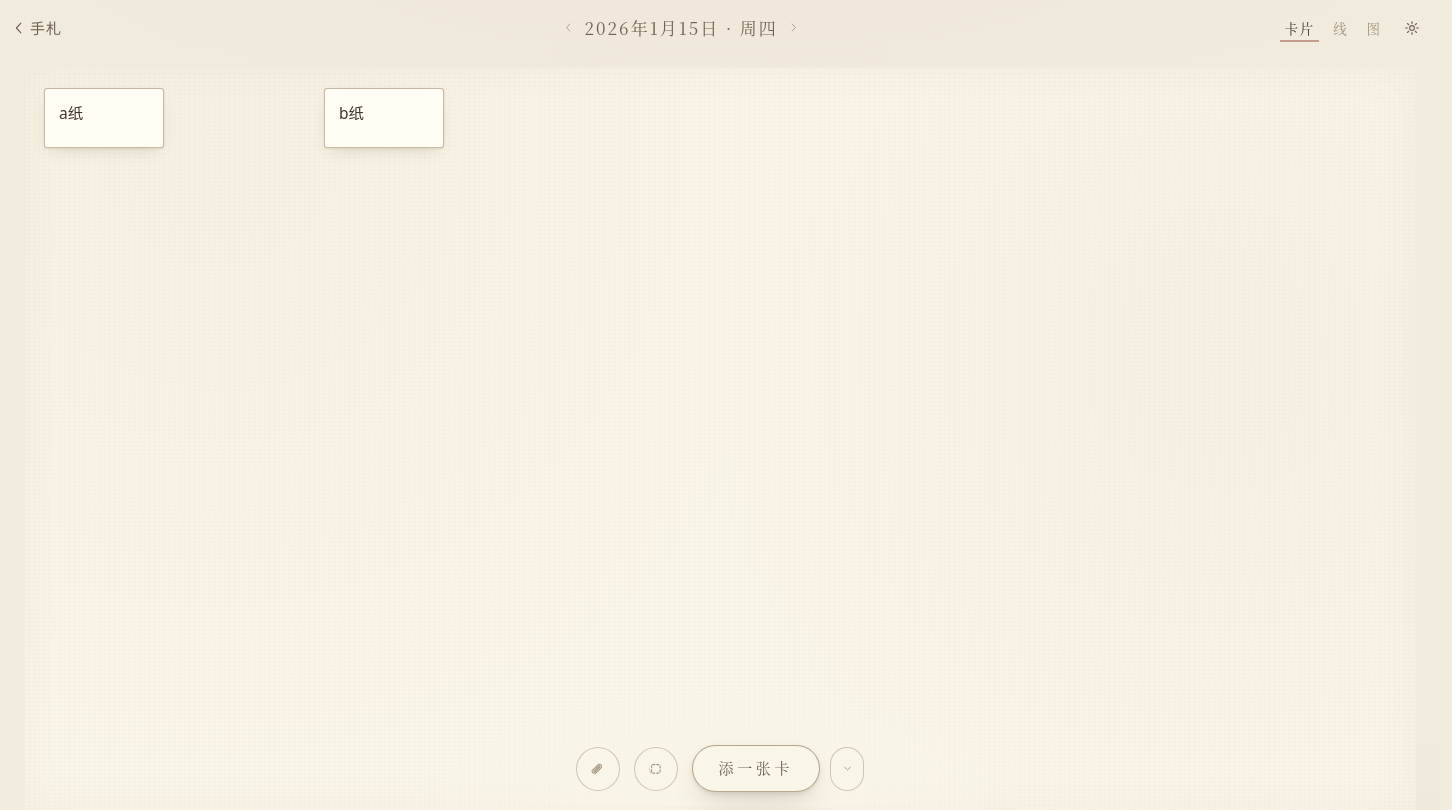
Test: 牵线（D1） › ⋯ 菜单出「牵线」；起牵后纸黄昏：靶纸亮、垫纸家眷与起点各居其位
The width and height of the screenshot is (1452, 810).
Check: the text "a纸" is shown, box [59,102,83,124]
Press the mouse on the element showing "a纸": (104,118) [44,88,164,148]
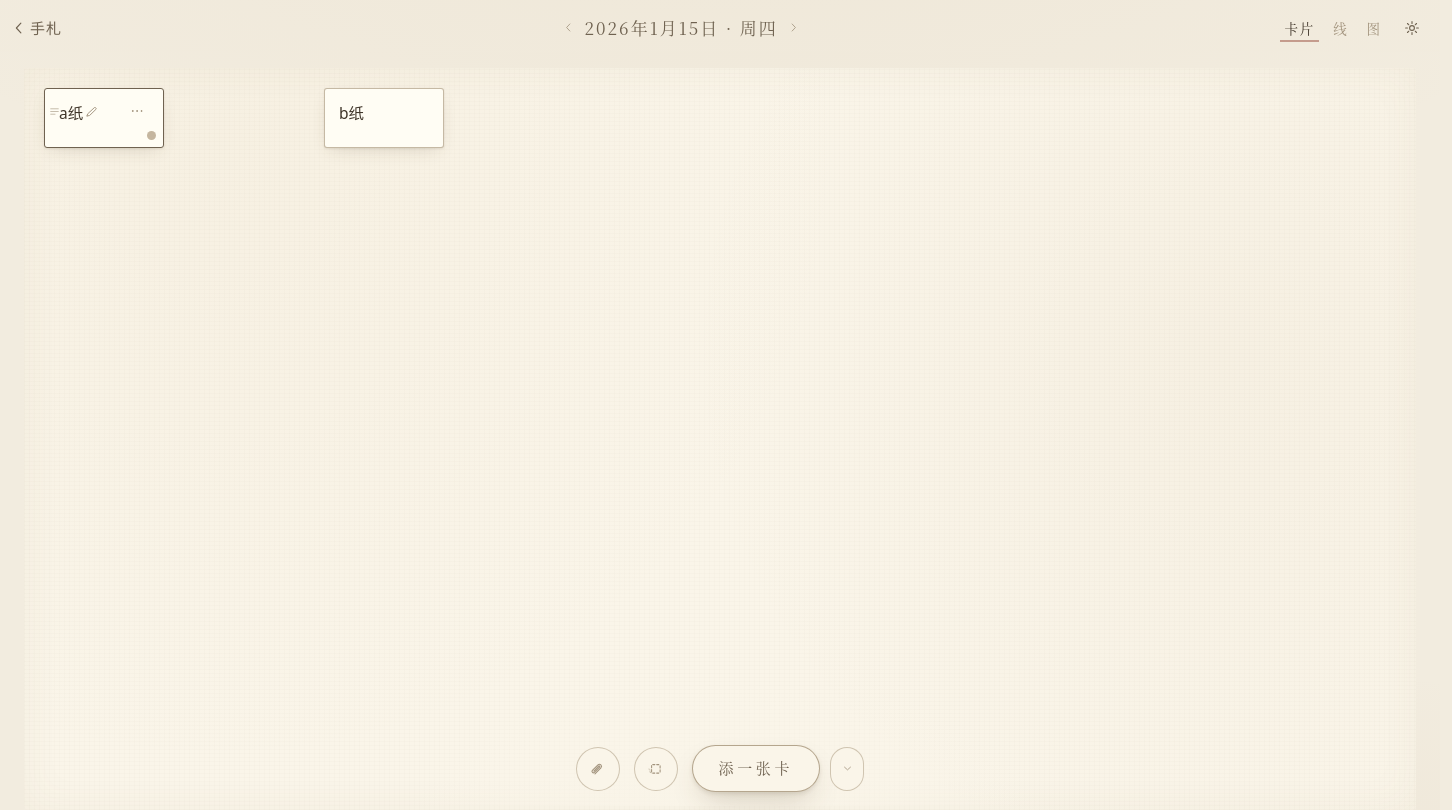
Click the button named "卡片菜单": (137,111) [115,89,159,133]
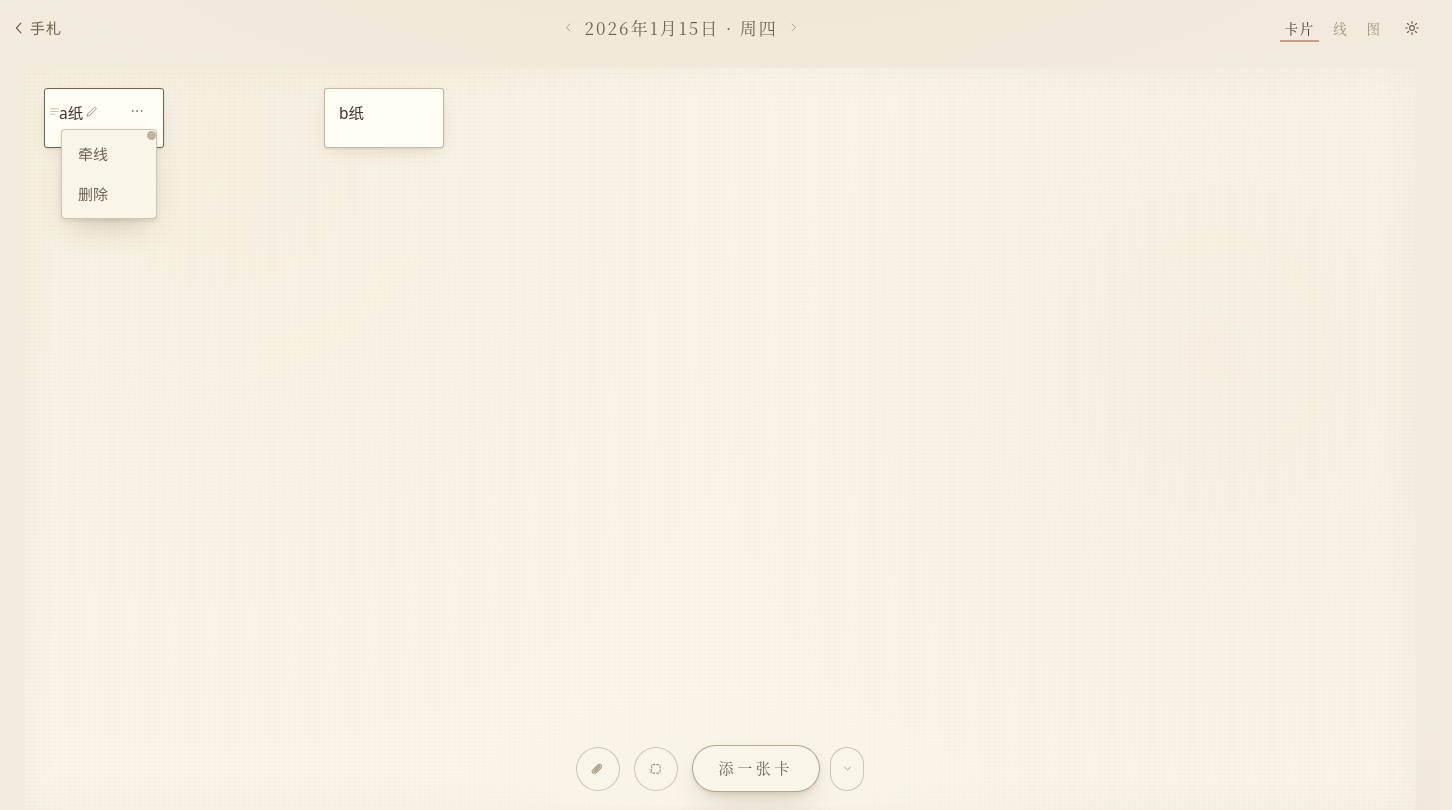
Click the button "牵线": (109,154) [66,134,152,174]
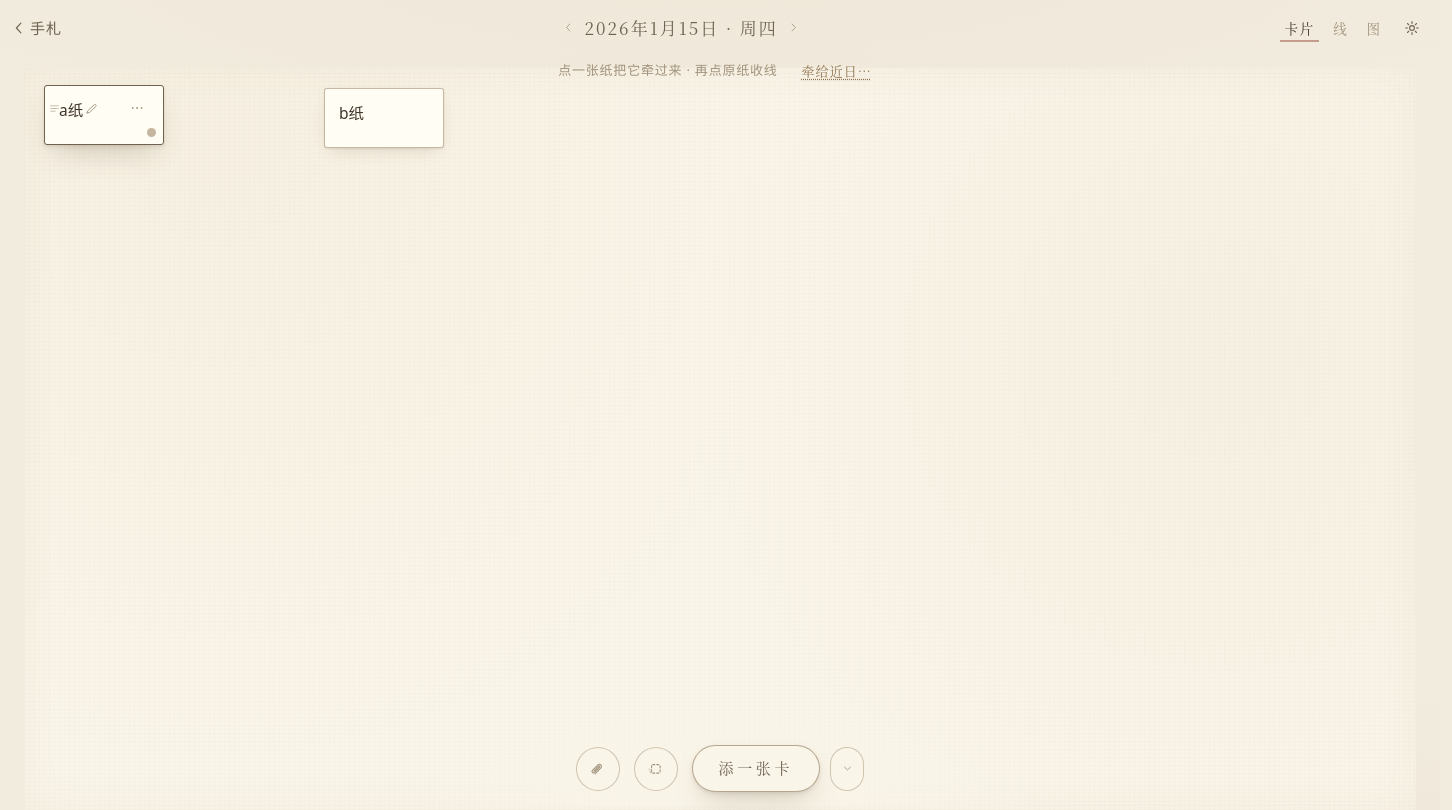
Check: the text "再点原纸收线" is shown, box [558,61,778,79]
Check: the text "牵给近日…" is shown, box [792,52,882,89]
